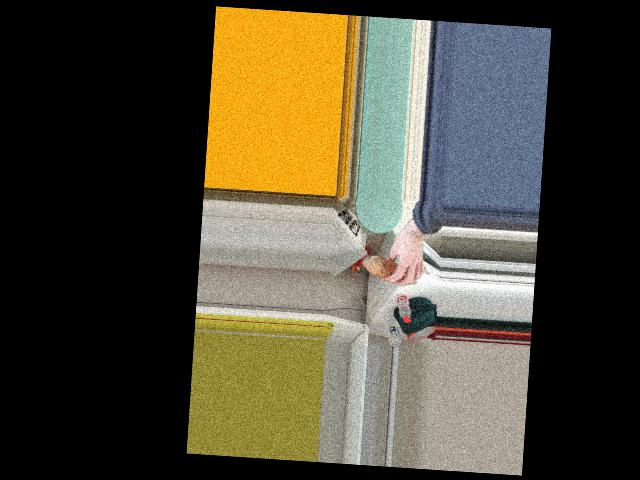sweet_potato: (363, 256, 421, 286)
